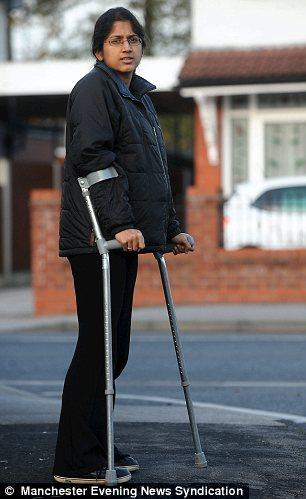crutches: (51, 7, 209, 487)
